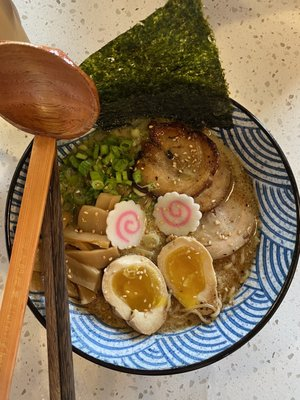burger: (214, 107, 300, 292)
pasta: (101, 254, 170, 336), (157, 236, 222, 322)
salad: (0, 41, 102, 400)
